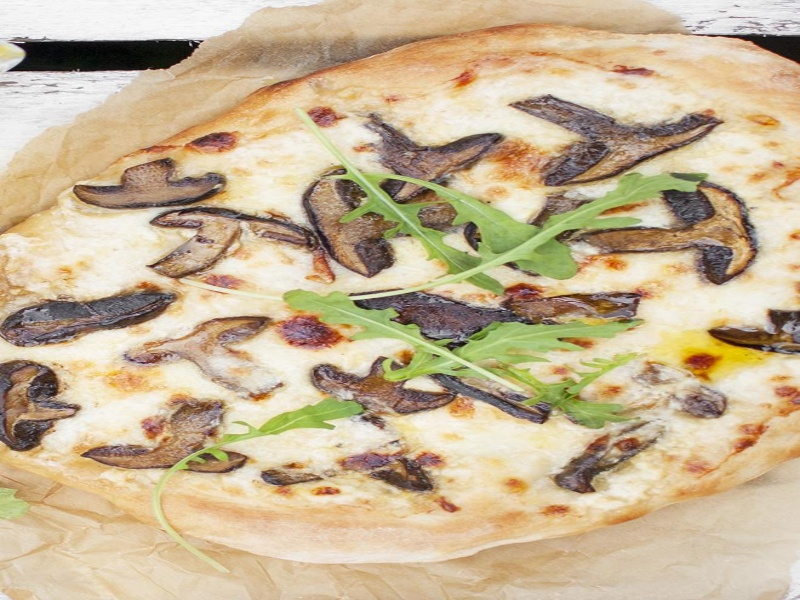champignon: (504, 89, 735, 195), (602, 179, 772, 292), (142, 201, 321, 287), (67, 151, 252, 214)
